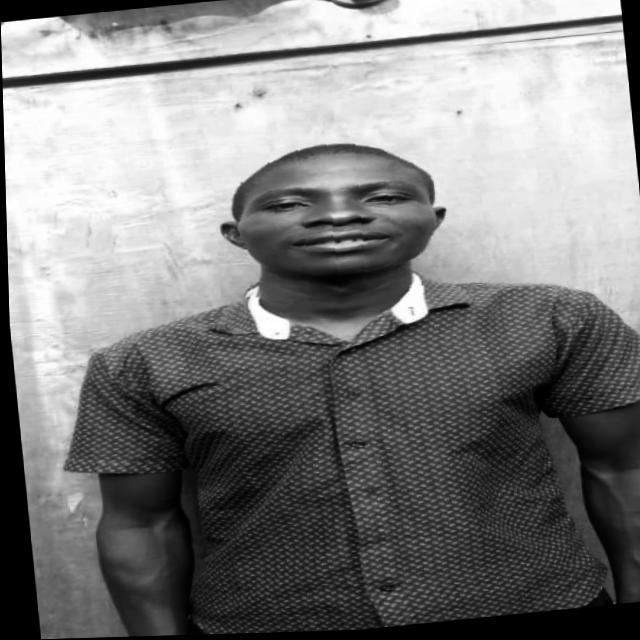happy: (205, 122, 483, 307)
